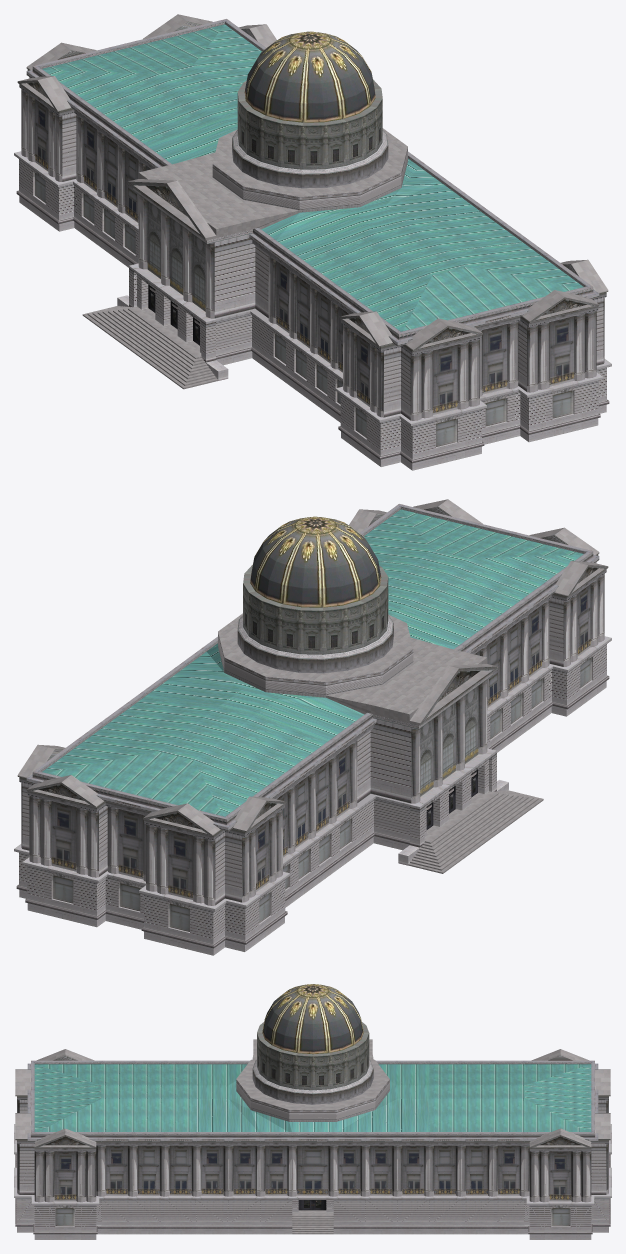
File: cityhall_sfs.obj
3 renders of one model, top to bottom at view 1: azimuth 30°, elevation 25°; view 2: azimuth 150°, elevation 25°; view 3: azimuth 270°, elevation 25°, orthographic. The views are drawn at different scales.
Visible parts, largest first — view 1: cityhall_SFS; view 2: cityhall_SFS; view 3: cityhall_SFS.
Boxes of the visible parts, x1,y1,x2,y2 form: cityhall_SFS: [14, 14, 611, 470]; cityhall_SFS: [14, 499, 611, 955]; cityhall_SFS: [14, 984, 611, 1239].
Size of the model in its own units: 50.75 by 44.47 by 115.
Materials: 13 (13 with a texture image).
